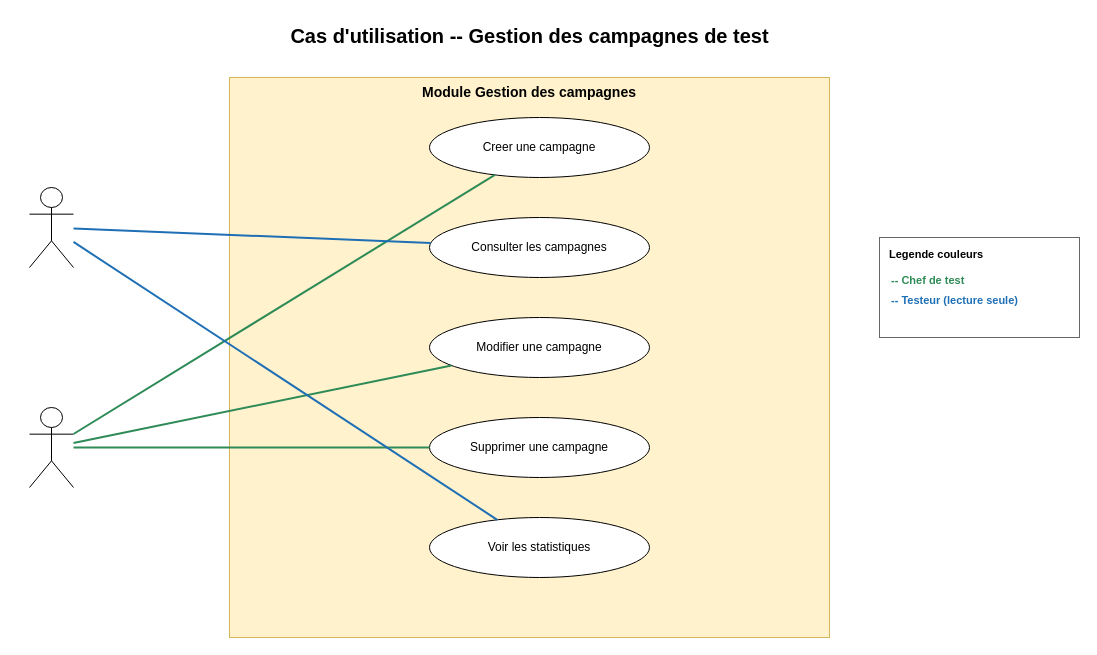
This 1097x655 diagram has some shape labels left out. The centre of each missing label's shape, as x and y in pixels:
"Chef de test" belongs at (x=51, y=447).
"Testeur" belongs at (x=51, y=227).
